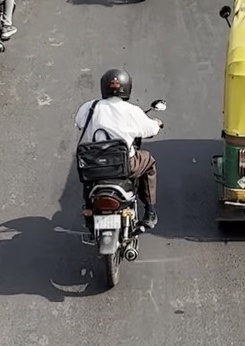BikeWithRider: (69, 63, 168, 294)
Helmet: (95, 63, 136, 104)
